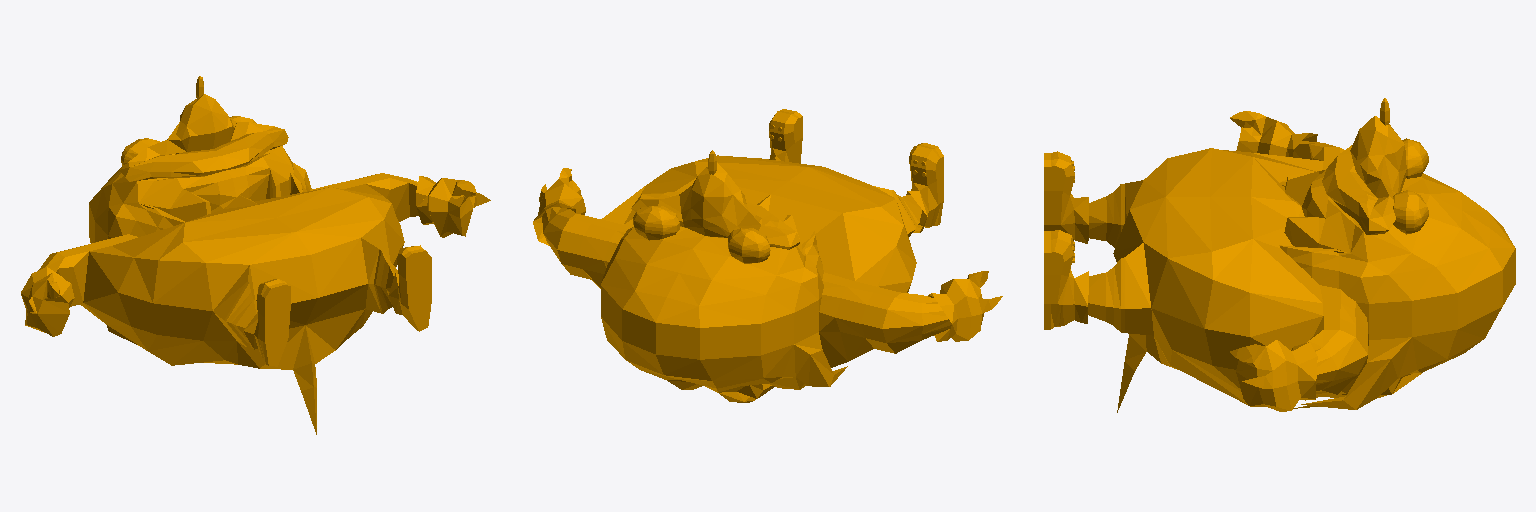
URDF robot description (mesh_object):
<?xml version="1.0" ?>
<robot name="mesh_object">
  <link name="base">
    <visual>
      <geometry>
        <mesh filename="flap_0.obj" scale="1 1 1"/>
      </geometry>
    </visual>
    <collision>
      <geometry>
        <mesh filename="flap_0.obj" scale="1 1 1"/>
      </geometry>
    </collision>
    <inertial>
      <origin xyz="0.000012 0.015070 0.044490" rpy="0 0 0"/>
      <mass value="0.5"/>
      <inertia ixx="0.01" iyy="0.01" izz="0.01" ixy="0" ixz="0" iyz="0"/>
    </inertial>
  </link>
</robot>

--- What the picture shows (computed from the rendered views, not written in the file) ---
Views: 3 orthographic renders of the robot side by side, from view 1: azimuth 30°, elevation 25°; view 2: azimuth 150°, elevation 25°; view 3: azimuth 270°, elevation 25°.
Model mesh_object with 1 links and 0 joints (none), rooted at base, posed every joint at zero.
Links seen in each view (by area): view 1: base; view 2: base; view 3: base.
Link boxes in pixels (<box>): base: <box>21,76,490,434</box>; base: <box>533,109,1002,402</box>; base: <box>1044,98,1515,412</box>.
Bounding box of the posed robot: 0.1546 × 0.12 × 0.089 m (x, y, z).
Meshes: 1 distinct files referenced, 1 mesh visuals loaded (1 OBJ).
